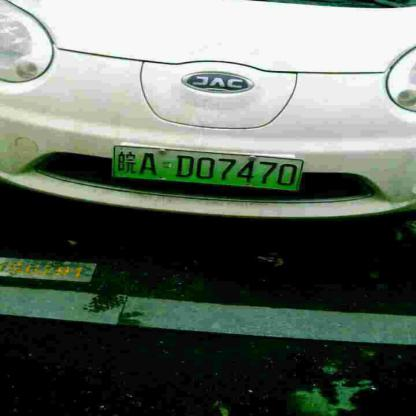lp: (112, 144, 304, 192)
